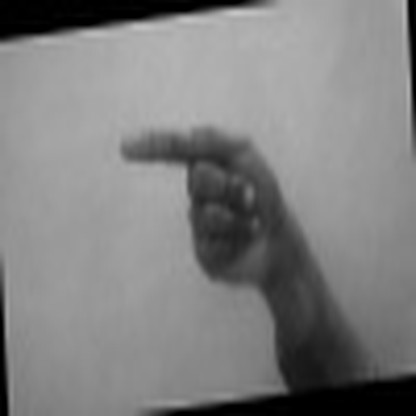g: (114, 111, 299, 286)
